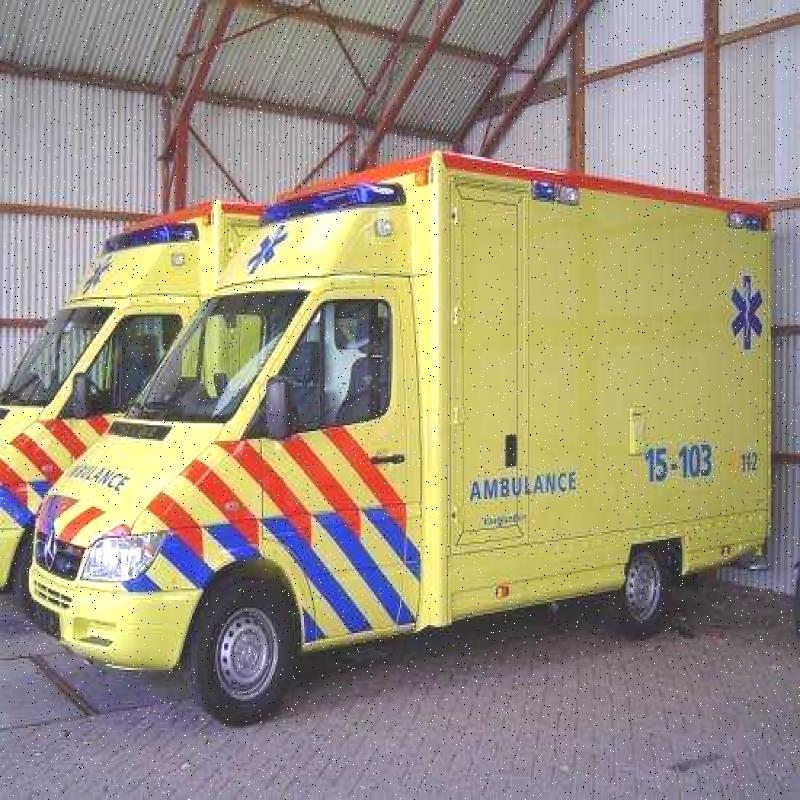AmbulanceSiren: (248, 175, 412, 233), (98, 219, 211, 266)
